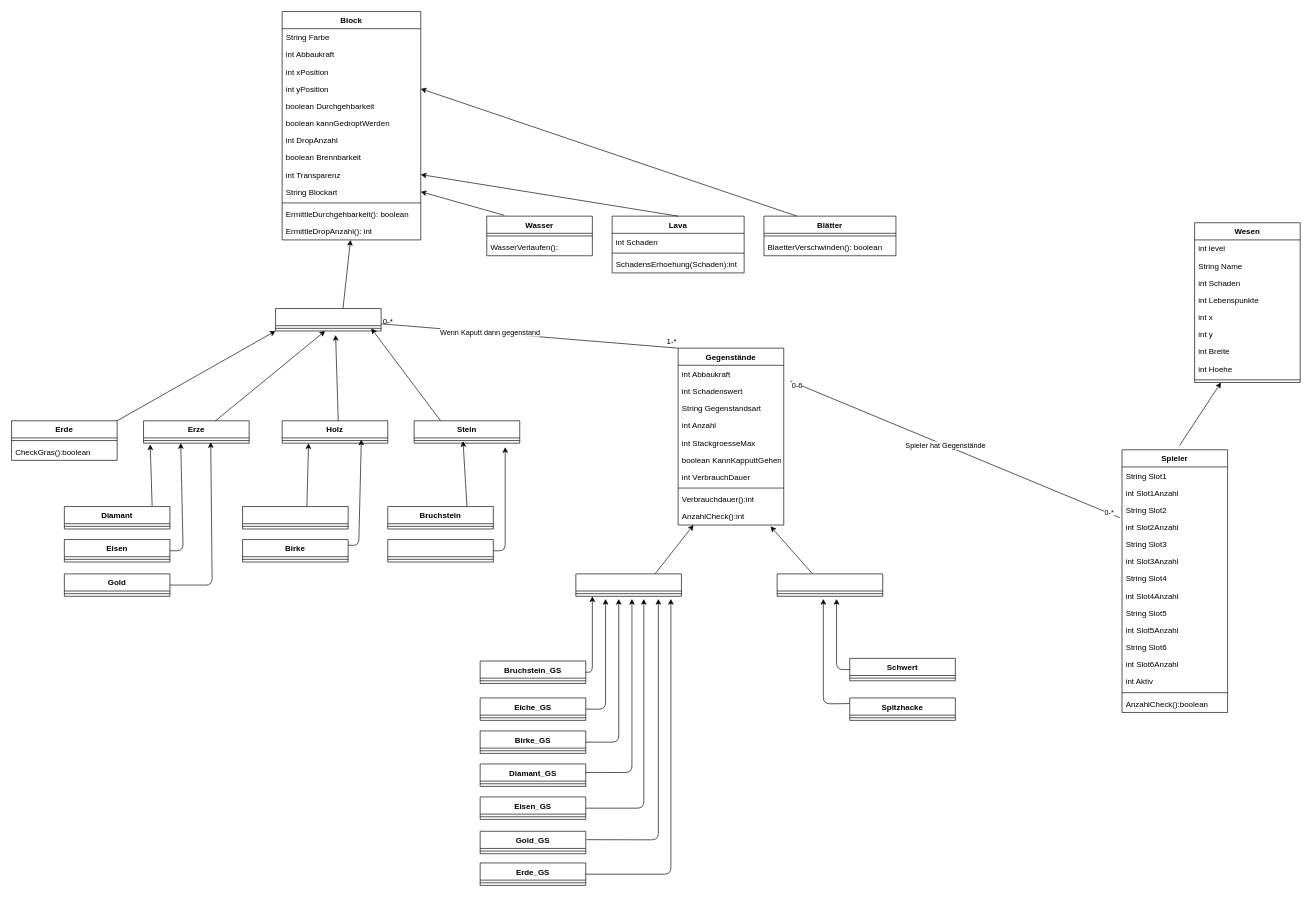
The diagram is 1312 pixels wide and 897 high, and some of its shapes have lost their labels. The centre of each missing label's shape, as x and y in pixels:
"Eiche" goes at (295,517).
"Materialien" goes at (328,319).
"Platzierbare" goes at (628,584).
"Reiner Stein" goes at (440,550).
"Werkzeuge" goes at (829,584).
